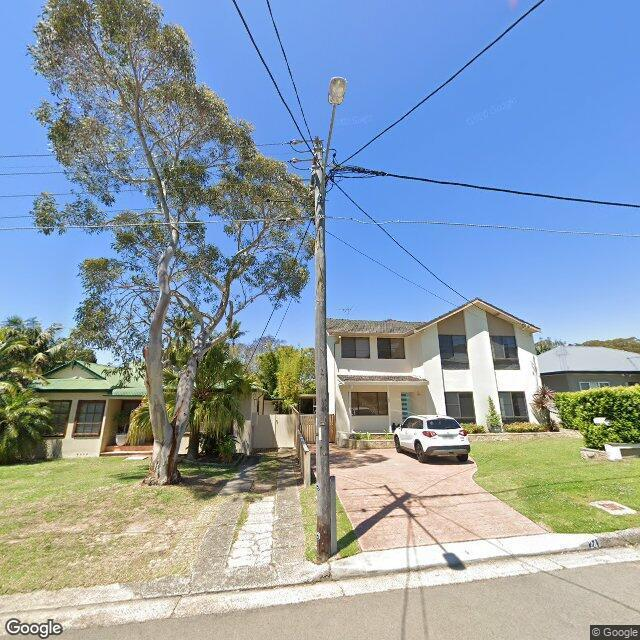crossarm: (310, 136, 322, 187)
streetlight: (318, 76, 348, 210)
timber-pole: (315, 140, 338, 560)
